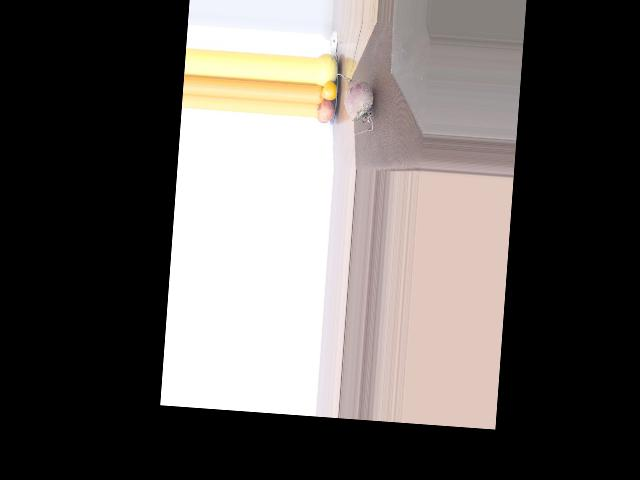beet: (328, 72, 377, 135)
